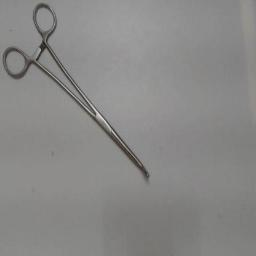Lahey Forceps: (2, 2, 154, 184)
